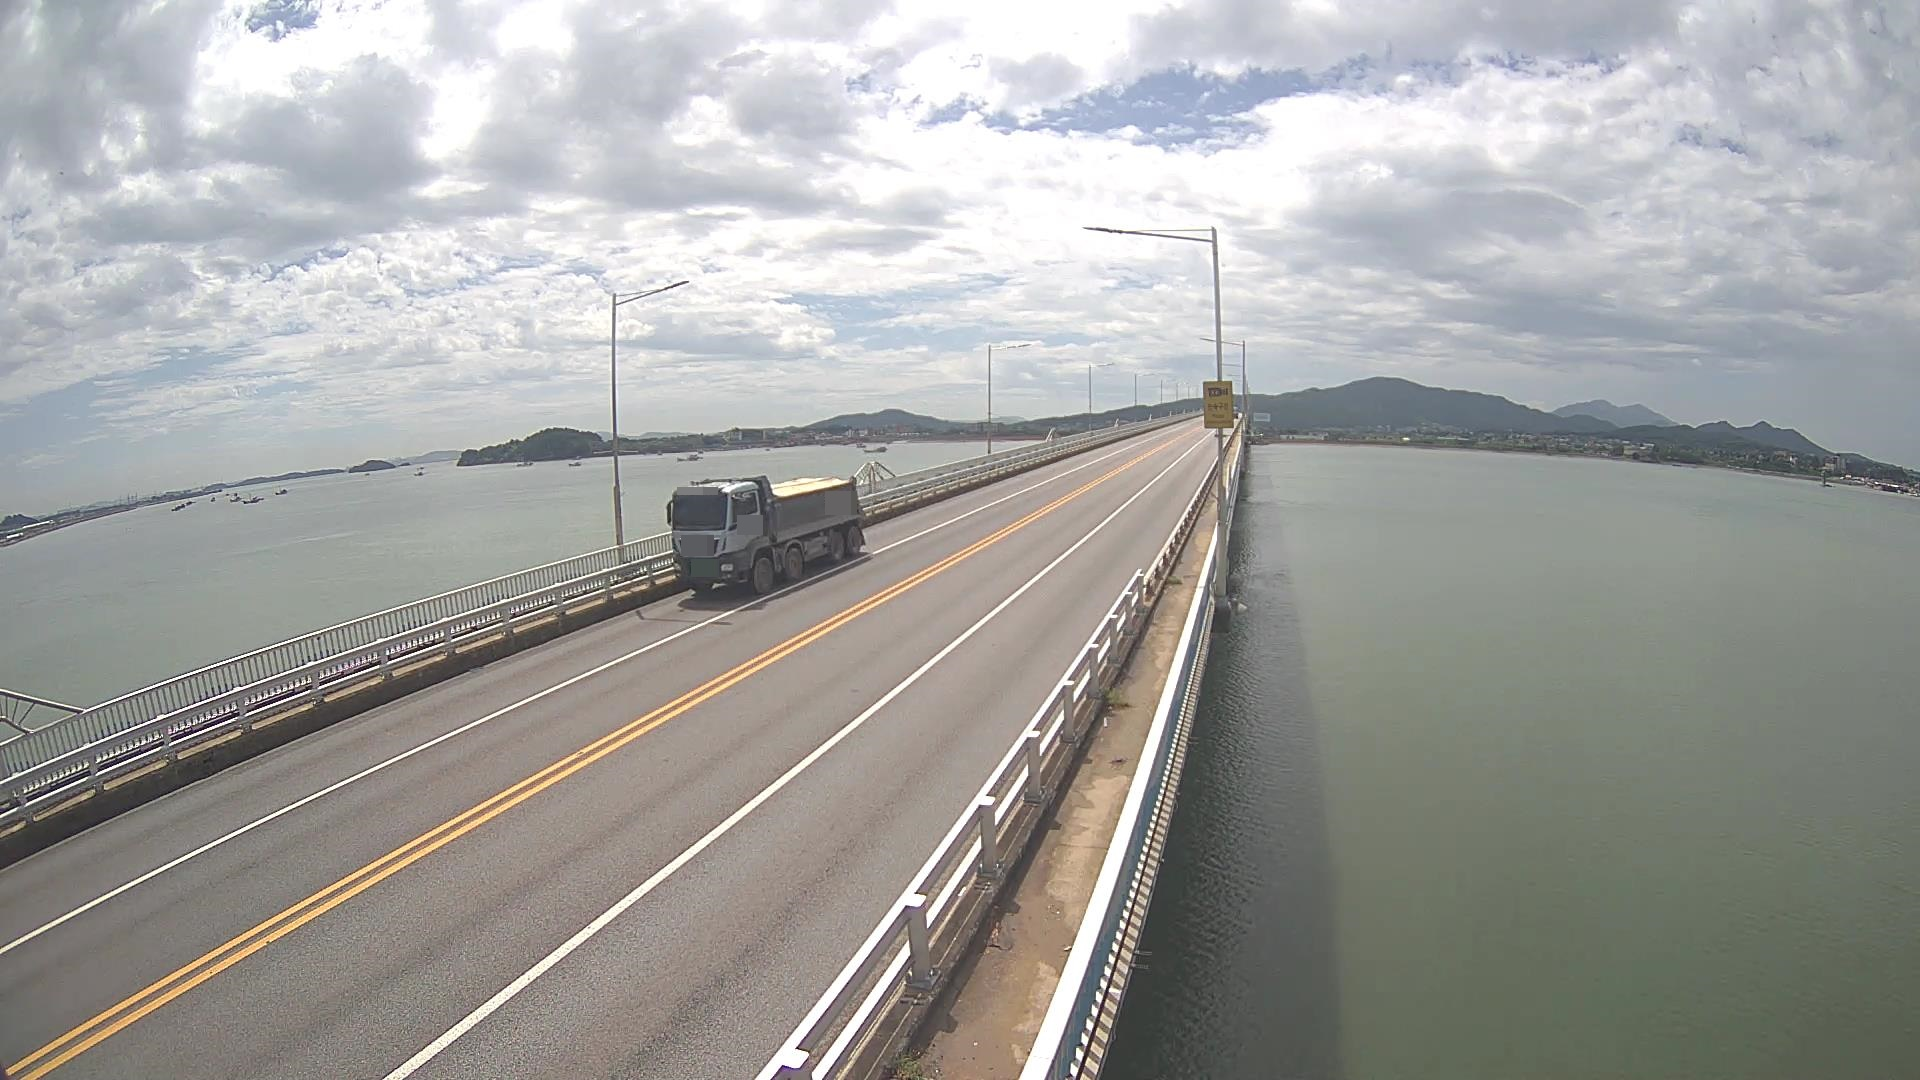정상차량: (666, 475, 866, 596)
